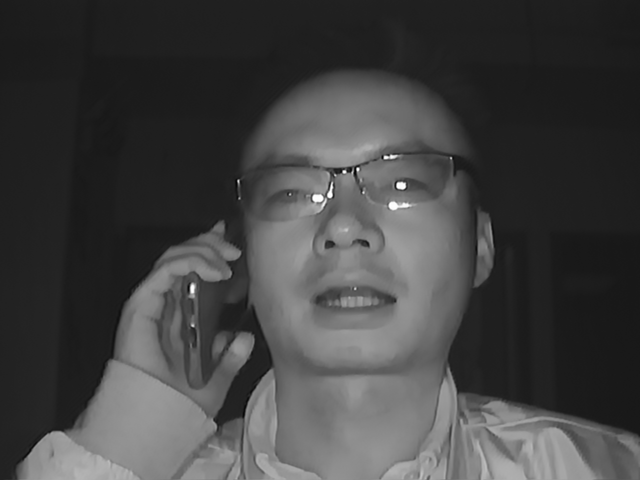hand: (109, 220, 252, 402)
